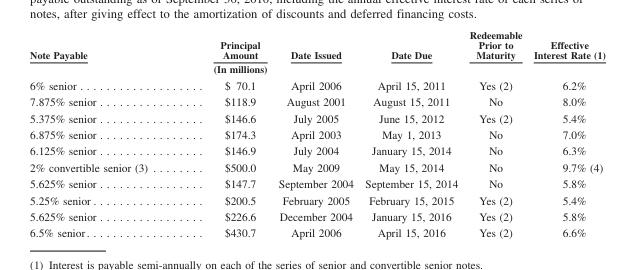table: (29, 28, 604, 238)
table column: (29, 28, 180, 238), (358, 28, 463, 238), (180, 28, 272, 238), (272, 28, 358, 238), (463, 28, 527, 238), (527, 28, 587, 238), (587, 28, 604, 238)
table column header: (29, 28, 604, 175)
table row: (29, 69, 604, 175), (29, 28, 604, 69), (29, 207, 604, 224), (29, 175, 604, 191), (29, 191, 604, 207), (29, 224, 604, 238)
table spanning cell: (29, 28, 180, 175), (358, 28, 463, 175), (180, 28, 272, 175), (272, 28, 358, 175), (463, 28, 527, 175), (527, 28, 604, 69)
